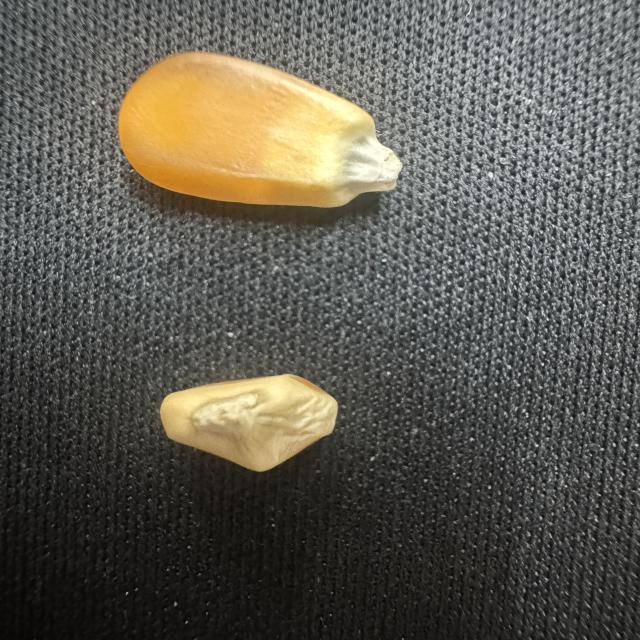Bad-Seed: (142, 367, 365, 476)
Good-Seed: (108, 43, 412, 219)
